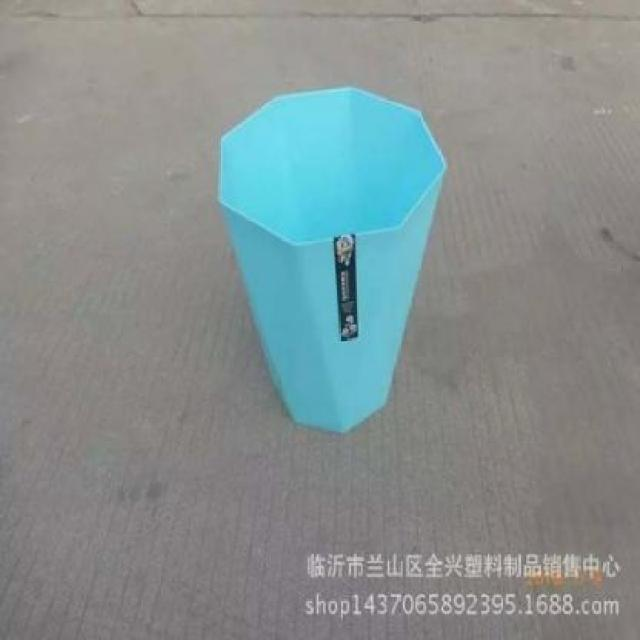dustbin: (215, 83, 452, 442)
